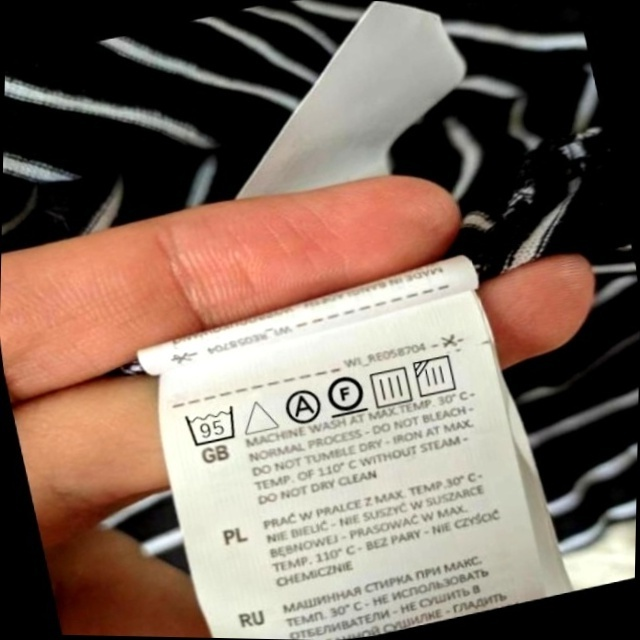95C: (180, 400, 244, 451)
bleach: (237, 391, 280, 440)
drip_dry: (365, 361, 417, 412)
drip_dry_in_shade: (410, 349, 464, 402)
dry_clean: (279, 384, 325, 429)
dry_clean_petrol_only: (322, 367, 370, 421)
